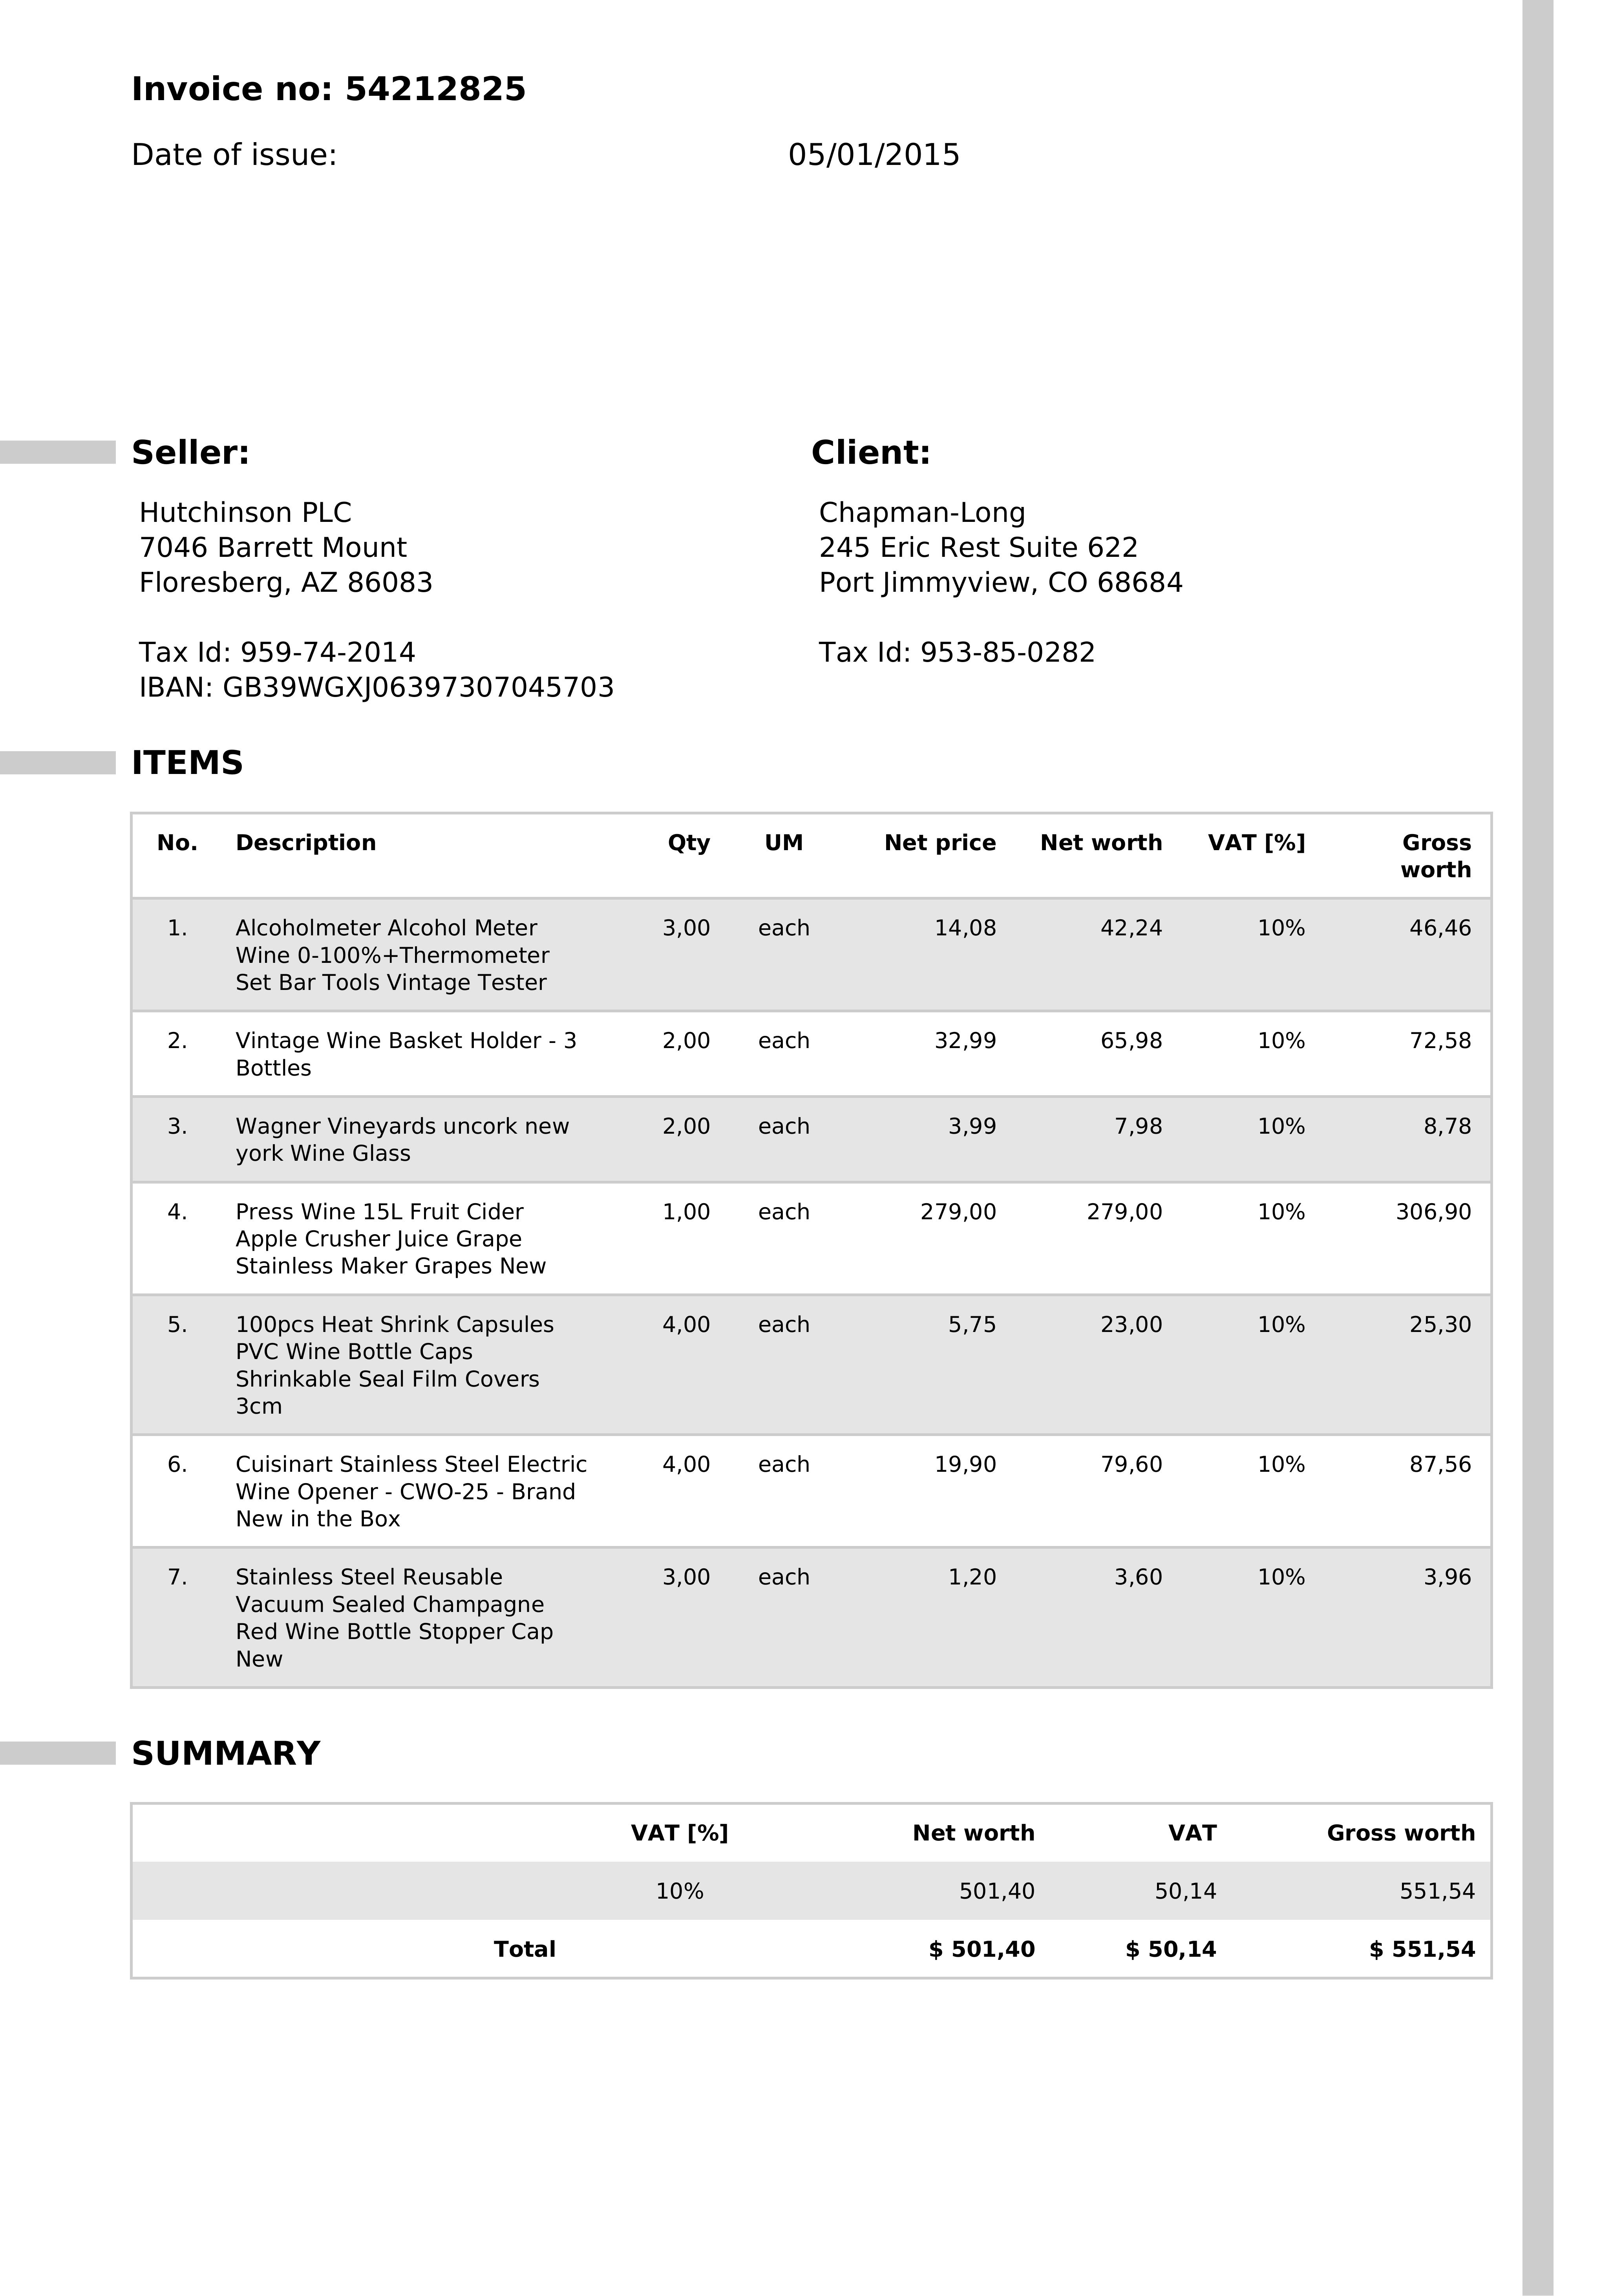column: (213, 815, 595, 1688), (1035, 812, 1180, 1688), (873, 815, 1017, 1690), (1361, 812, 1493, 1690), (1200, 815, 1326, 1688), (643, 817, 731, 1688), (748, 817, 834, 1690), (1312, 1801, 1497, 1978), (892, 1806, 1047, 1978), (620, 1802, 750, 1975), (1107, 1808, 1237, 1975), (485, 1808, 581, 1978)
